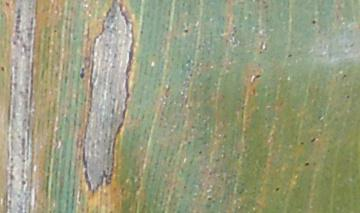tarspot: (78, 66, 86, 78), (253, 71, 262, 80), (273, 183, 280, 193), (182, 26, 190, 34), (303, 158, 310, 167), (310, 136, 317, 144), (286, 51, 293, 59), (310, 18, 317, 26), (20, 179, 27, 186), (298, 139, 305, 146), (51, 27, 58, 34), (342, 72, 348, 80), (4, 1, 10, 8), (344, 93, 350, 100), (1, 65, 6, 72), (198, 149, 203, 156), (258, 50, 264, 55)
